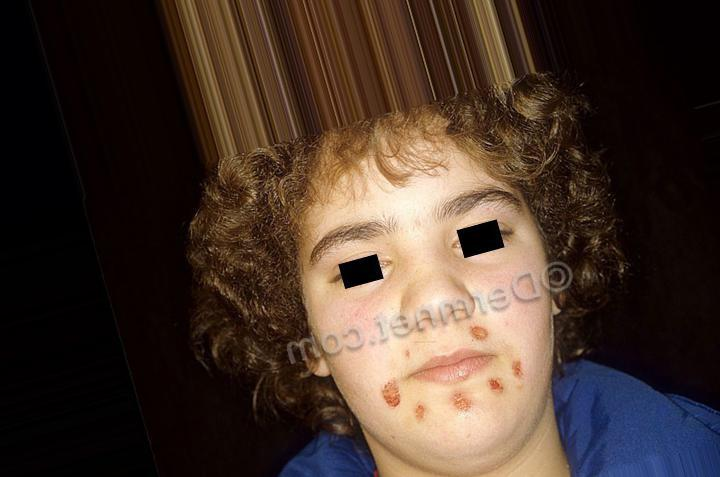Acne: (449, 390, 500, 441), (467, 364, 518, 409), (453, 318, 521, 349), (485, 348, 533, 389), (366, 365, 404, 408), (408, 390, 432, 444)
